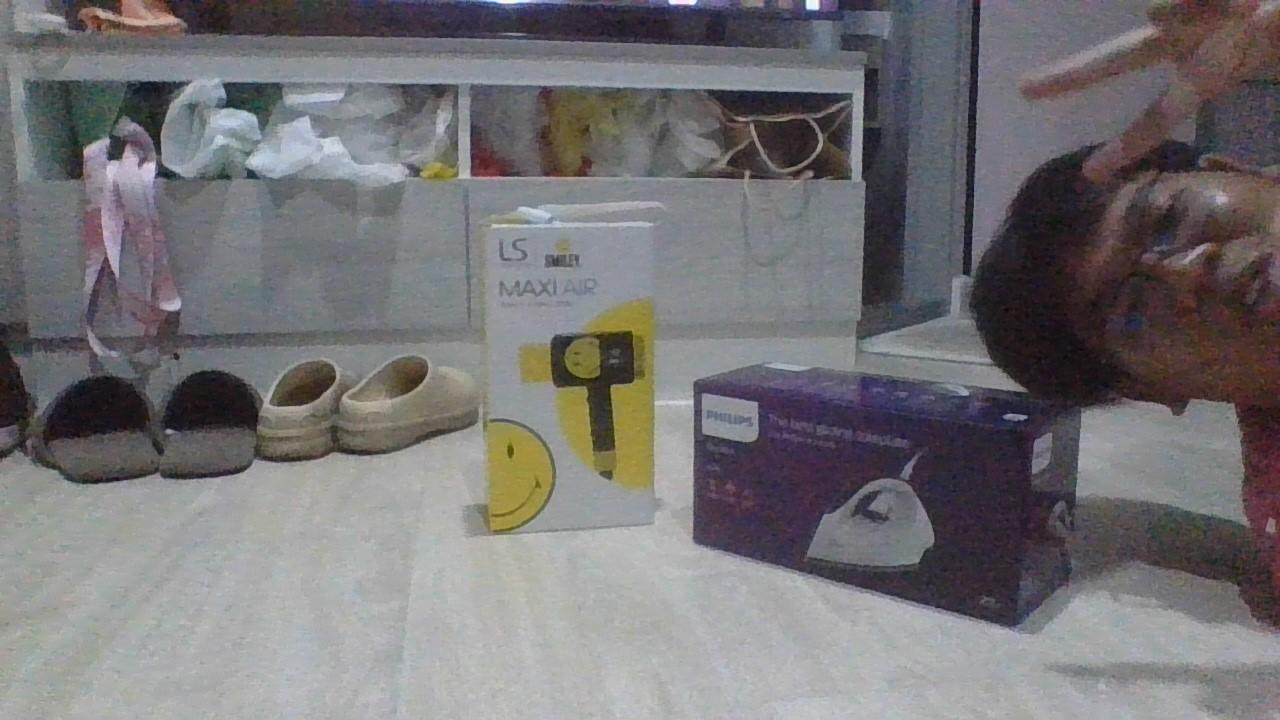Dryer: (475, 202, 665, 537)
IRON: (687, 357, 1085, 632)
